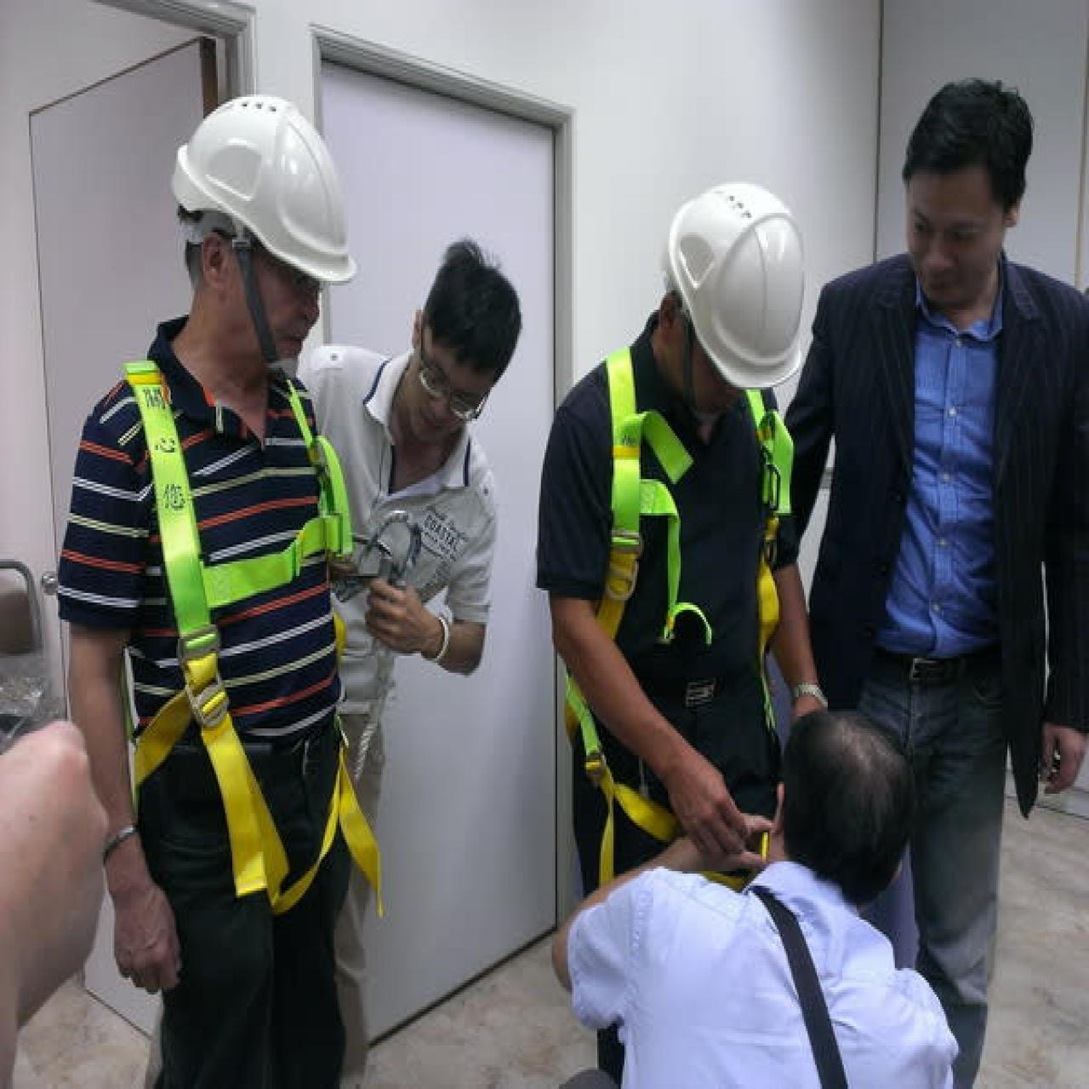NO_Safety_Vest: (81, 389, 341, 784), (547, 369, 795, 774), (835, 272, 1063, 687), (596, 869, 914, 1089), (310, 352, 486, 732)
Person: (39, 79, 404, 1085), (794, 54, 1089, 1072), (523, 137, 819, 1085), (285, 213, 529, 1087), (523, 670, 975, 1089)
